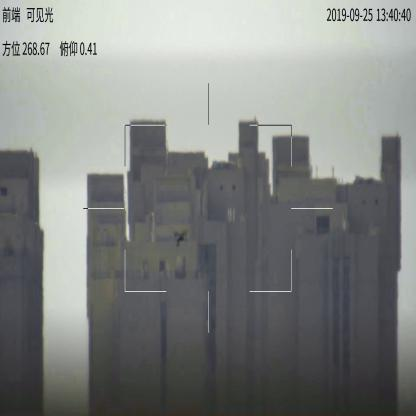uav: (171, 226, 191, 250)
